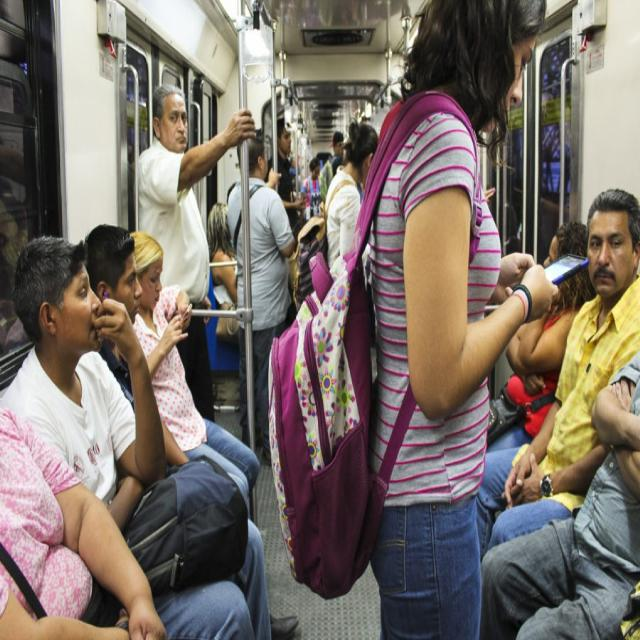body: (340, 0, 572, 638), (0, 229, 274, 638), (0, 395, 255, 640), (475, 187, 640, 563), (476, 345, 639, 640), (117, 230, 261, 518), (137, 82, 258, 424), (83, 222, 192, 485), (484, 218, 592, 452), (226, 132, 294, 470), (309, 116, 379, 441), (322, 124, 375, 256), (263, 116, 309, 230), (206, 200, 240, 312), (300, 157, 322, 222)
